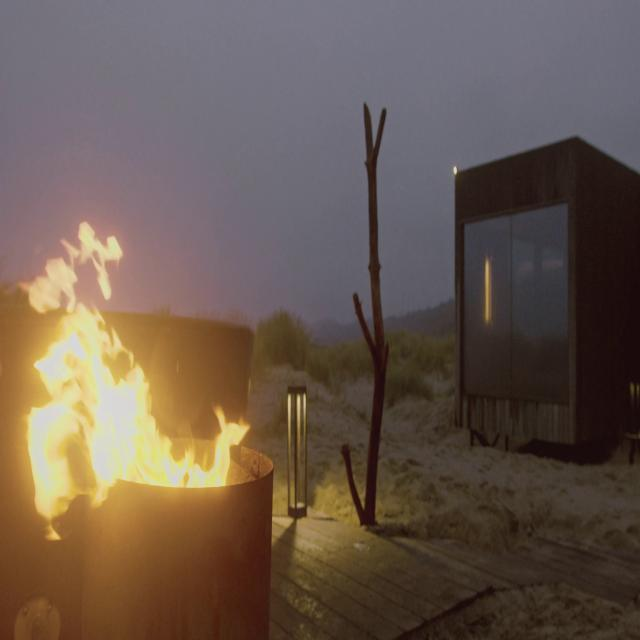Fire: (7, 212, 245, 513)
